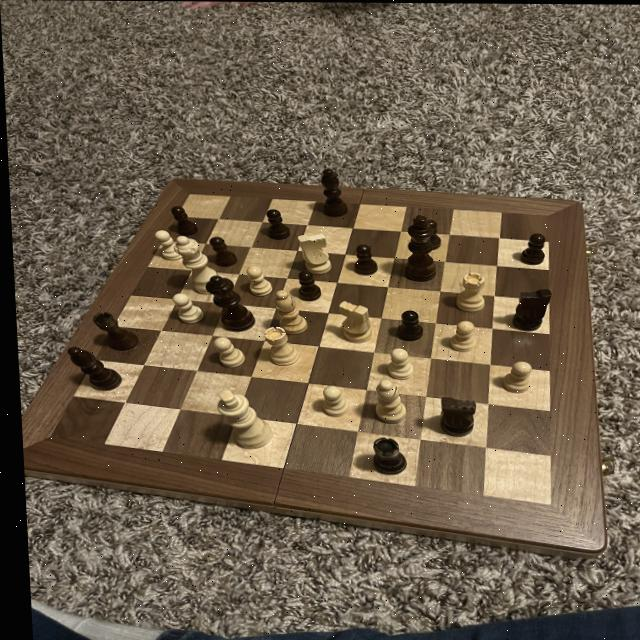bishop: (60, 343, 119, 393), (315, 166, 349, 219)
black-bishop: (395, 214, 436, 283)
black-king: (496, 282, 557, 332), (431, 394, 476, 438)
black-knight: (510, 232, 549, 269), (389, 308, 425, 342), (203, 235, 237, 269), (346, 242, 379, 276), (166, 204, 198, 239), (260, 207, 289, 241), (293, 270, 322, 304), (420, 218, 440, 250)
black-pawn: (199, 273, 253, 332)
black-queen: (80, 309, 140, 356), (359, 432, 408, 478)
black-rook: (364, 375, 407, 424), (267, 289, 307, 338)
white-bishop: (206, 390, 275, 453)
white-king: (289, 231, 331, 278), (332, 300, 370, 348)
white-knight: (493, 357, 534, 395), (201, 335, 249, 366), (144, 228, 183, 265), (162, 290, 202, 325), (236, 264, 277, 298), (311, 383, 350, 418), (377, 344, 415, 379), (440, 318, 477, 353)
white-pawn: (169, 237, 220, 295)
white-queen: (254, 323, 300, 370), (443, 270, 486, 316)
